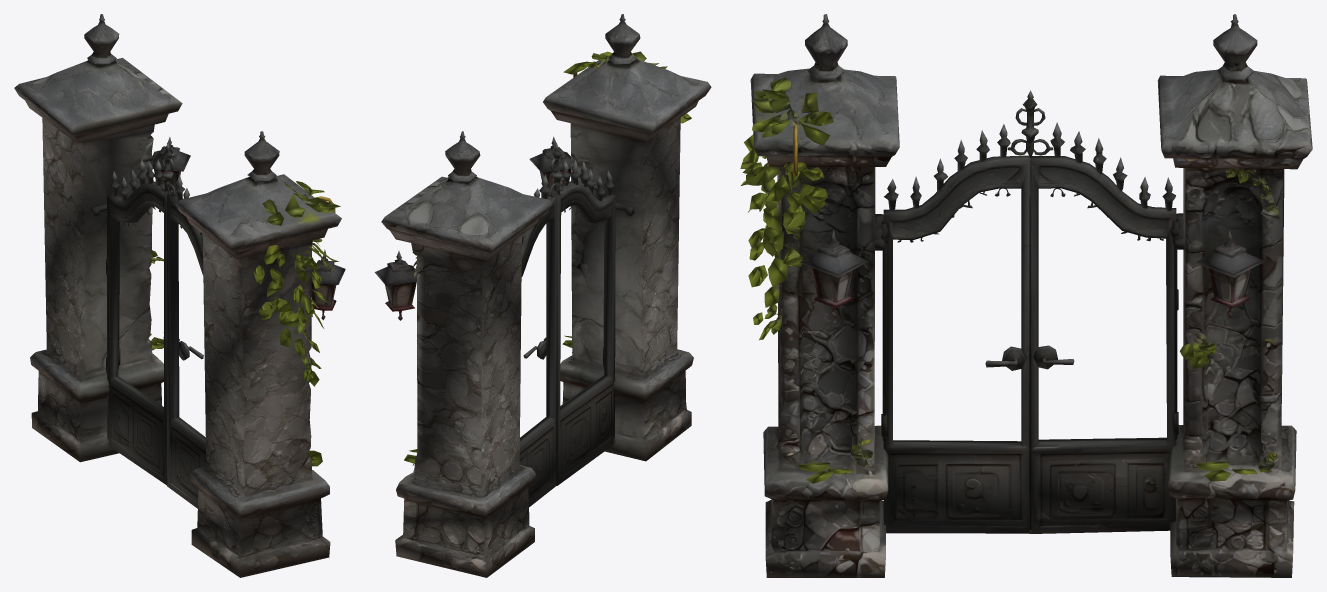
File: gate_arch.glb
The picture shows the model from 3 angles, left to right: view 1: azimuth 30°, elevation 25°; view 2: azimuth 150°, elevation 25°; view 3: azimuth 270°, elevation 25°; orthographic projection. The views are drawn at different scales.
Visible parts, largest first — view 1: tripo_node_7793d4d4-afbf-457a-b703-41ab52d38a05; view 2: tripo_node_7793d4d4-afbf-457a-b703-41ab52d38a05; view 3: tripo_node_7793d4d4-afbf-457a-b703-41ab52d38a05.
Part boxes in pixels (x1=…): tripo_node_7793d4d4-afbf-457a-b703-41ab52d38a05: x1=14, y1=14, x2=345, y2=577; tripo_node_7793d4d4-afbf-457a-b703-41ab52d38a05: x1=374, y1=14, x2=711, y2=577; tripo_node_7793d4d4-afbf-457a-b703-41ab52d38a05: x1=740, y1=14, x2=1312, y2=577.
Bounding box in the file's own units: 0.3691 × 0.998 × 0.9668.
1 material, 1 textured.
